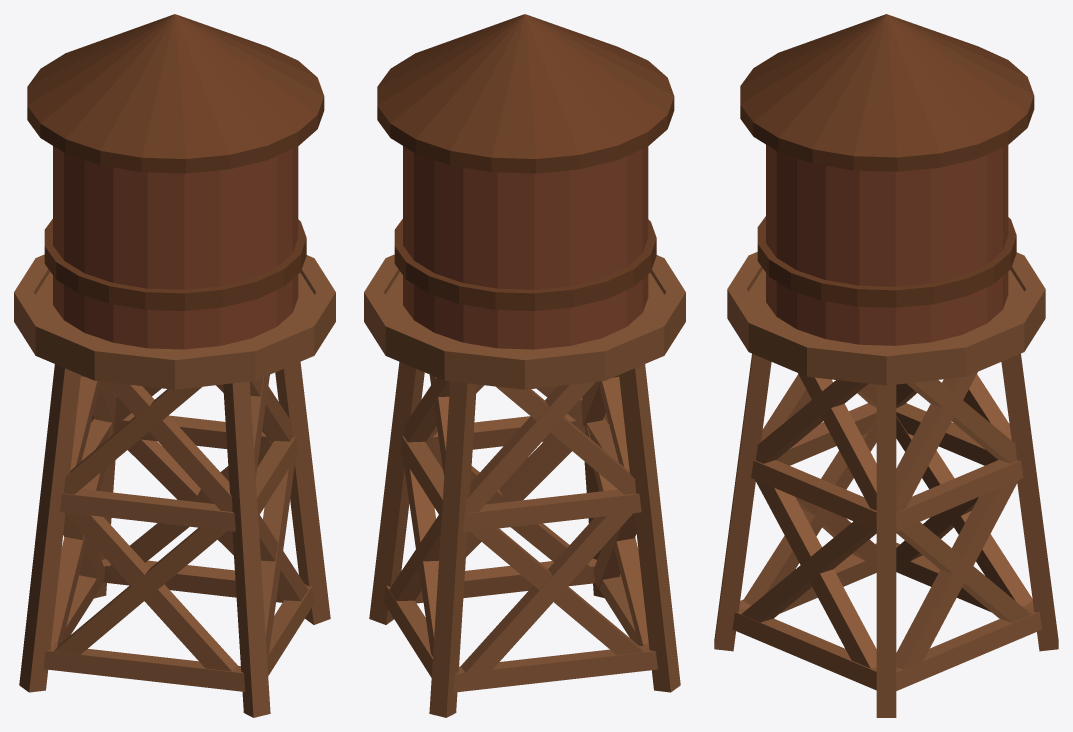
Rendered from Silo_Einzelobjekt.fbx.
The picture shows the model from 3 angles, left to right: view 1: azimuth 30°, elevation 25°; view 2: azimuth 150°, elevation 25°; view 3: azimuth 270°, elevation 25°; orthographic projection.
Parts seen in each view (by area): view 1: Cylinder.005; view 2: Cylinder.005; view 3: Cylinder.005.
Boxes of the visible parts, x1,y1,x2,y2 form: Cylinder.005: (14, 14, 335, 717); Cylinder.005: (364, 14, 685, 717); Cylinder.005: (714, 14, 1058, 717).
Bounding box in the file's own units: 386 × 783 × 386.
